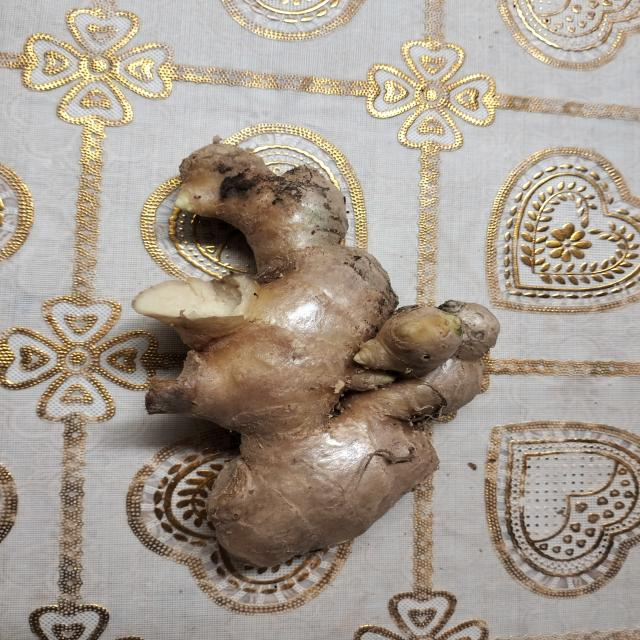ginger: (127, 132, 520, 567)
